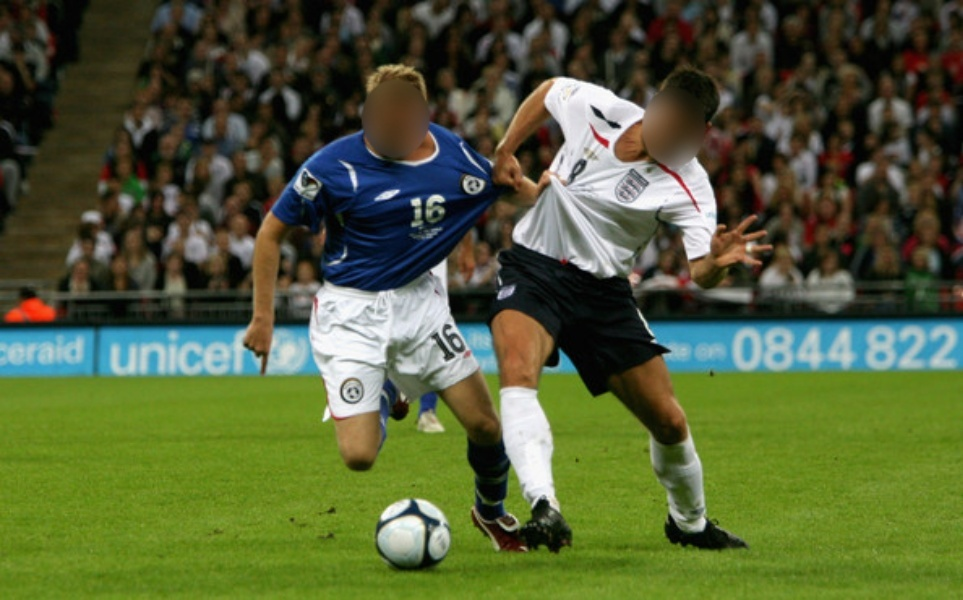text: (113, 328, 128, 377), (129, 328, 144, 377), (145, 328, 160, 377), (161, 328, 176, 377), (177, 328, 192, 377), (193, 328, 208, 377), (209, 328, 224, 377), (225, 328, 240, 377), (433, 320, 448, 367), (449, 320, 464, 367), (737, 325, 752, 372), (753, 325, 768, 372), (769, 325, 784, 372), (785, 325, 800, 372), (801, 325, 816, 372), (817, 325, 832, 372), (833, 325, 848, 372), (849, 325, 864, 372), (865, 325, 880, 372), (881, 325, 896, 372), (897, 325, 912, 372), (913, 325, 928, 372), (929, 325, 944, 372), (945, 325, 960, 372), (417, 190, 432, 231), (433, 190, 448, 231), (561, 153, 576, 192), (577, 153, 592, 192), (1, 333, 16, 370), (17, 333, 32, 370), (33, 333, 48, 370), (49, 333, 64, 370), (65, 333, 80, 370), (241, 328, 249, 377), (425, 320, 432, 367), (409, 190, 416, 231), (465, 320, 469, 367), (732, 325, 736, 372), (81, 333, 86, 370), (558, 153, 560, 192), (111, 328, 112, 377), (961, 325, 962, 372)
